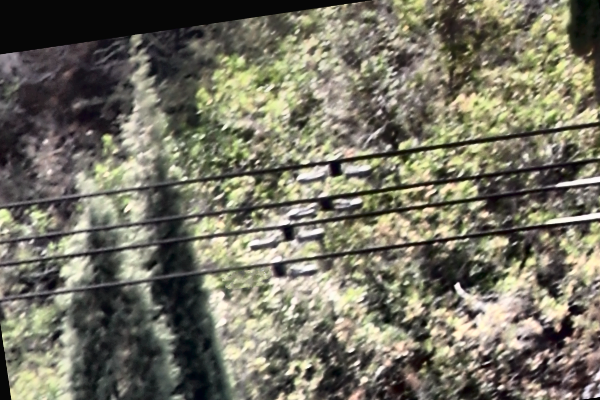damper: (294, 151, 373, 185), (284, 189, 365, 221), (246, 220, 325, 251)
damper_defect: (261, 254, 320, 284)
